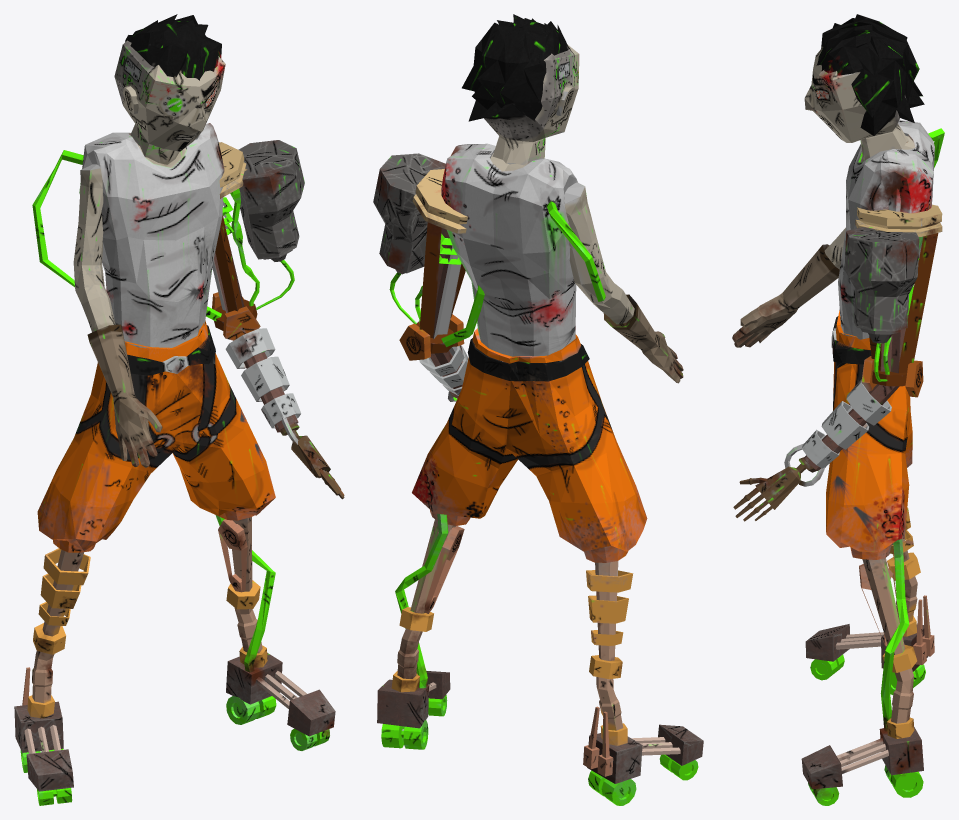
Rendered from CyborgFINALAnimation_000032.obj.
3 renders of one model, left to right at view 1: azimuth 30°, elevation 25°; view 2: azimuth 150°, elevation 25°; view 3: azimuth 270°, elevation 25°, orthographic. The views are drawn at different scales.
Visible parts, largest first — view 1: CyborgMesh_Cube.002; view 2: CyborgMesh_Cube.002; view 3: CyborgMesh_Cube.002.
Part boxes in pixels (x1,y1,x2,y2): CyborgMesh_Cube.002: (14, 14, 344, 805); CyborgMesh_Cube.002: (373, 14, 703, 805); CyborgMesh_Cube.002: (732, 14, 944, 805).
Size of the model in its own units: 3.99 by 9.64 by 2.57.
